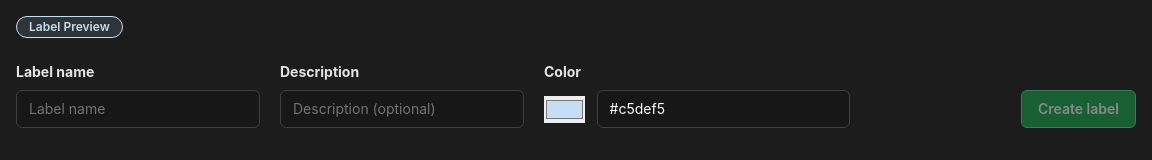
Test case: create mode › color input and picker › color input back to default state when create button clicked
Type "test name" into the field with test id "text-input" at (138, 109), box [16,90,260,128]
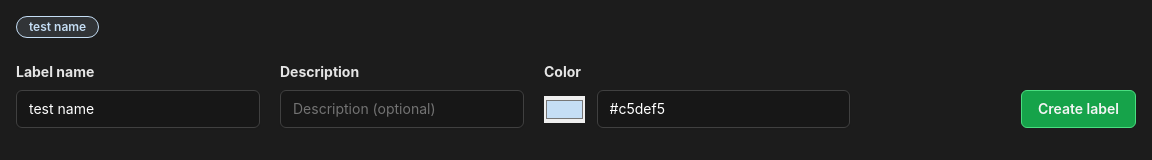
Replace the text in the field with test id "text-input" with "#ffffff" at (723, 109), box [597,90,850,128]
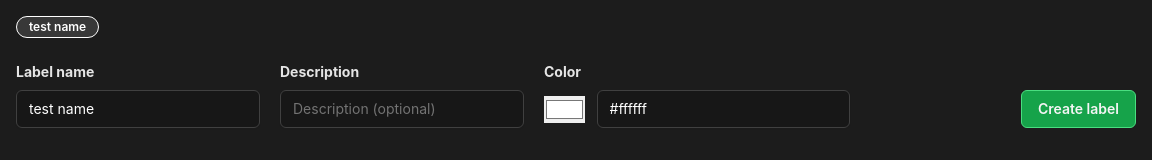
Click the button with test id "primary-button" at (1078, 109), box [1021,90,1136,128]
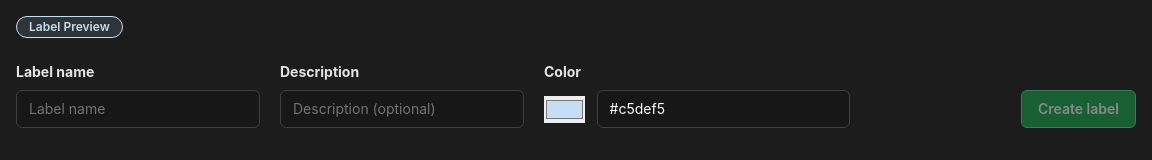
Now the field with test id "text-input" holds "#c5def5", box [597,90,850,128]
